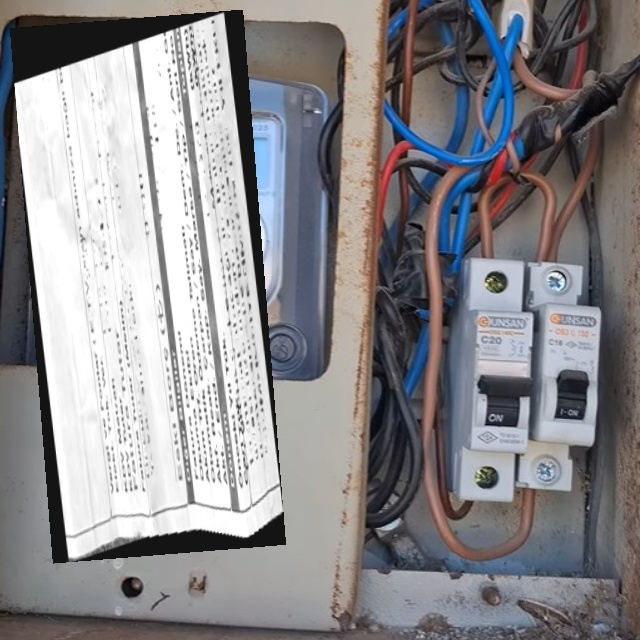electricity-bill: (10, 9, 286, 563)
